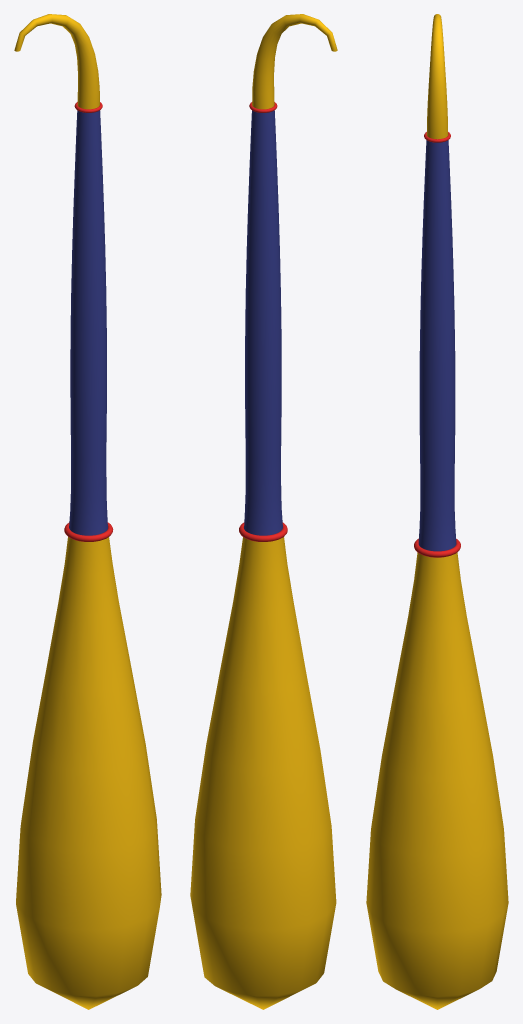
The model's file is scavino.fbx.
The picture shows the model from 3 angles, left to right: view 1: azimuth 30°, elevation 25°; view 2: azimuth 150°, elevation 25°; view 3: azimuth 270°, elevation 25°; orthographic projection. The views are drawn at different scales.
Visible parts, largest first — view 1: Oggetto_2, Oggetto_3, Oggetto_5, Oggetto_1; view 2: Oggetto_2, Oggetto_3, Oggetto_5, Oggetto_1; view 3: Oggetto_2, Oggetto_3, Oggetto_5, Oggetto_1.
Part boxes in pixels (x1=…): Oggetto_2: x1=16, y1=537, x2=161, y2=1009; Oggetto_3: x1=69, y1=110, x2=107, y2=535; Oggetto_5: x1=14, y1=14, x2=99, y2=109; Oggetto_1: x1=64, y1=522, x2=113, y2=541; Oggetto_2: x1=190, y1=537, x2=336, y2=1009; Oggetto_3: x1=244, y1=110, x2=282, y2=535; Oggetto_5: x1=252, y1=14, x2=337, y2=109; Oggetto_1: x1=239, y1=522, x2=287, y2=541; Oggetto_2: x1=366, y1=552, x2=508, y2=1009; Oggetto_3: x1=418, y1=140, x2=456, y2=551; Oggetto_5: x1=426, y1=14, x2=448, y2=139; Oggetto_1: x1=414, y1=538, x2=460, y2=557.
Size of the model in its own units: 2.59 by 2.4 by 18.08.
